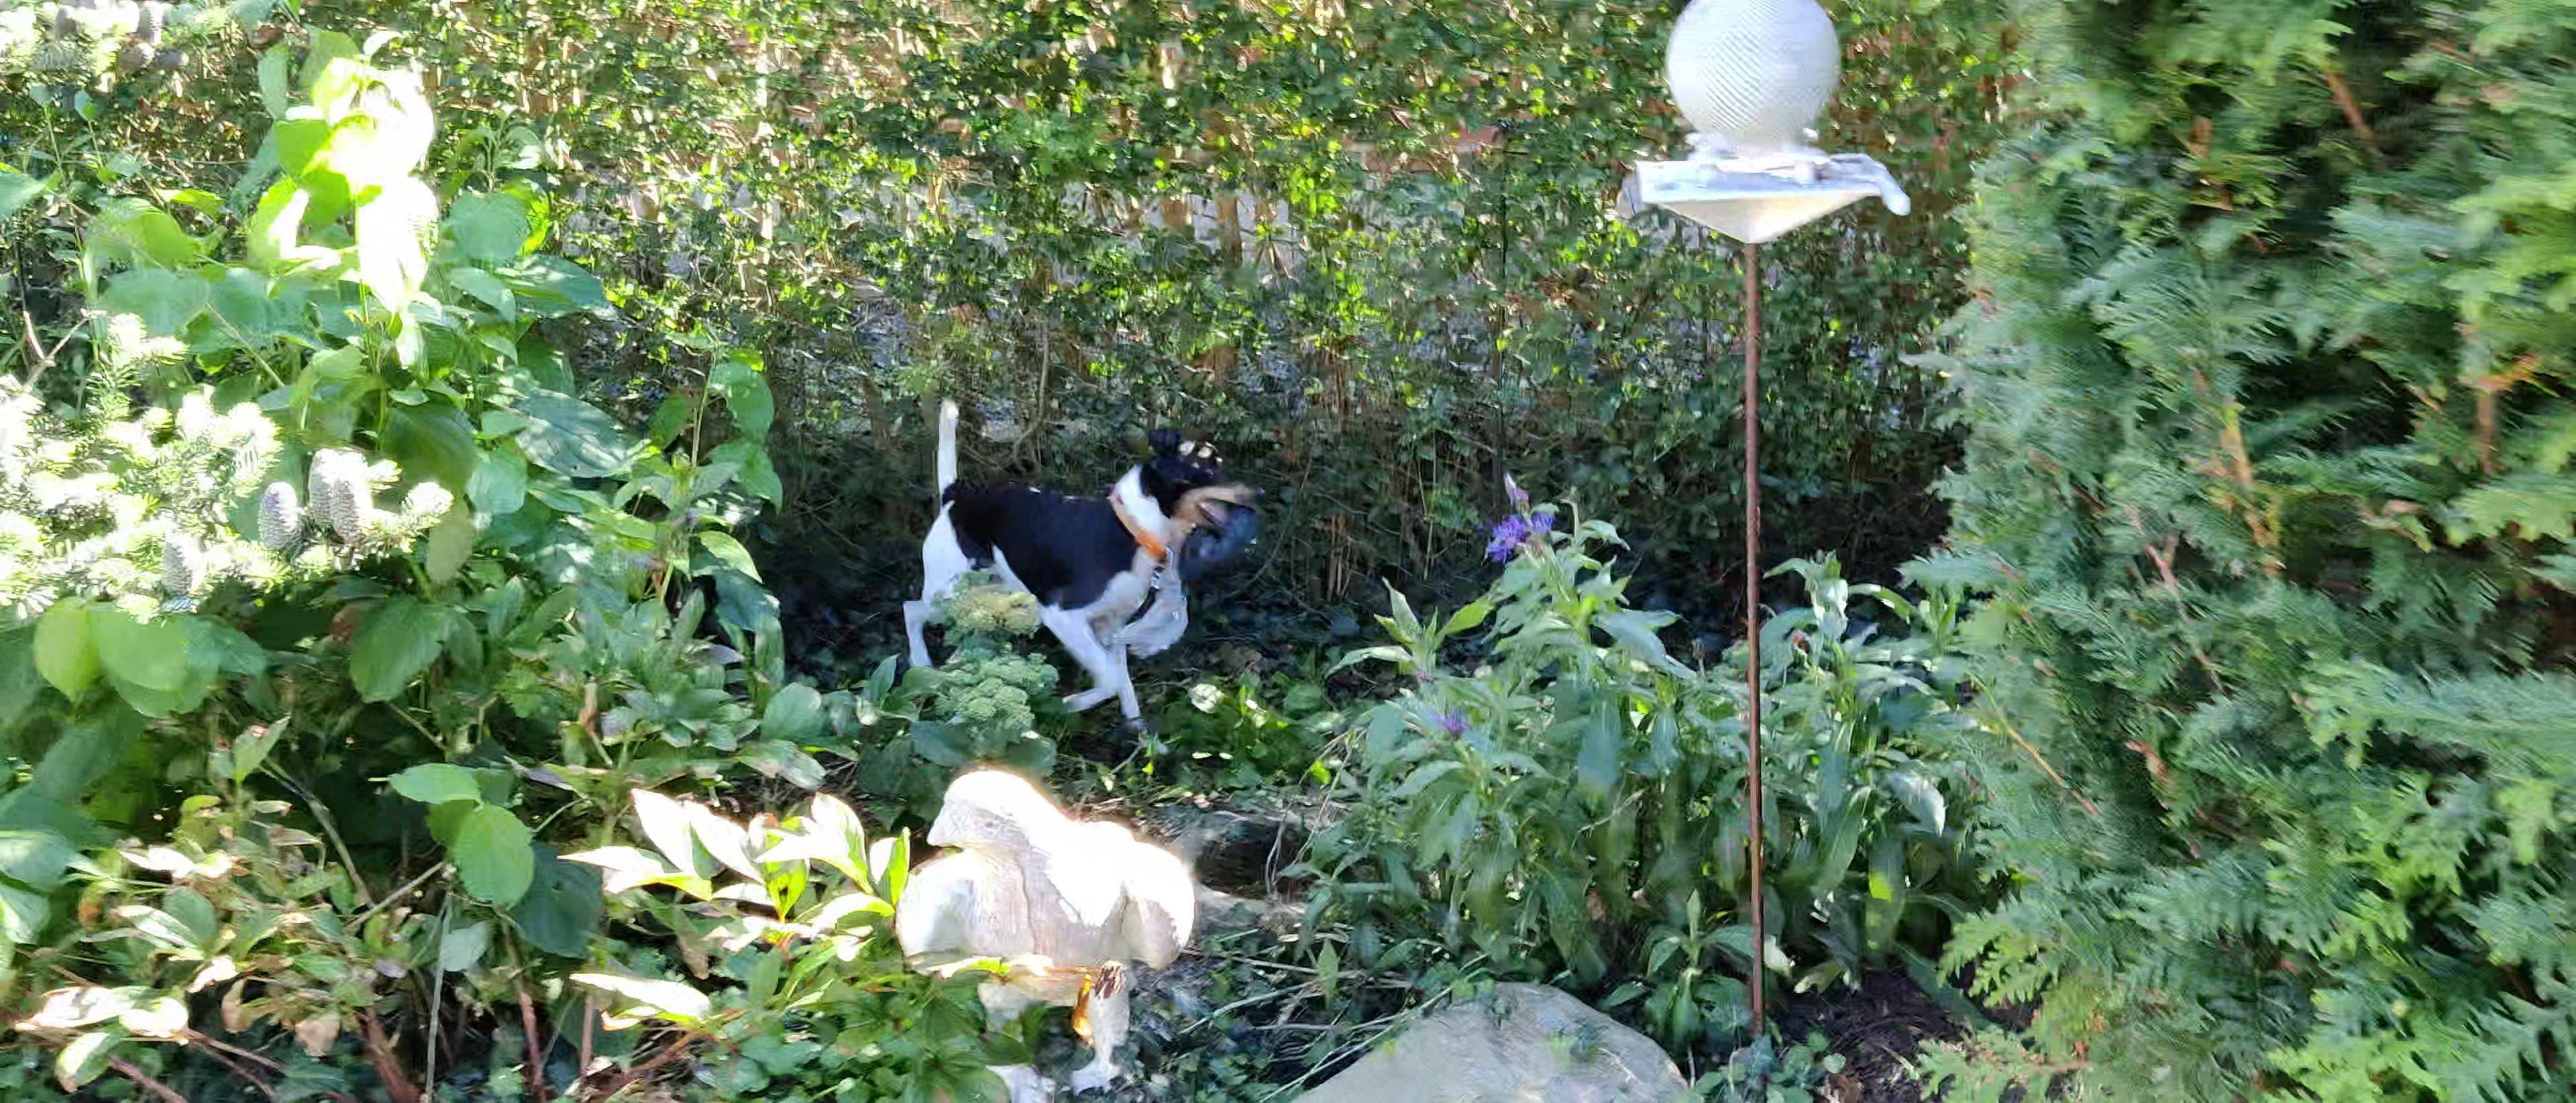Dog: (897, 396, 1268, 722)
